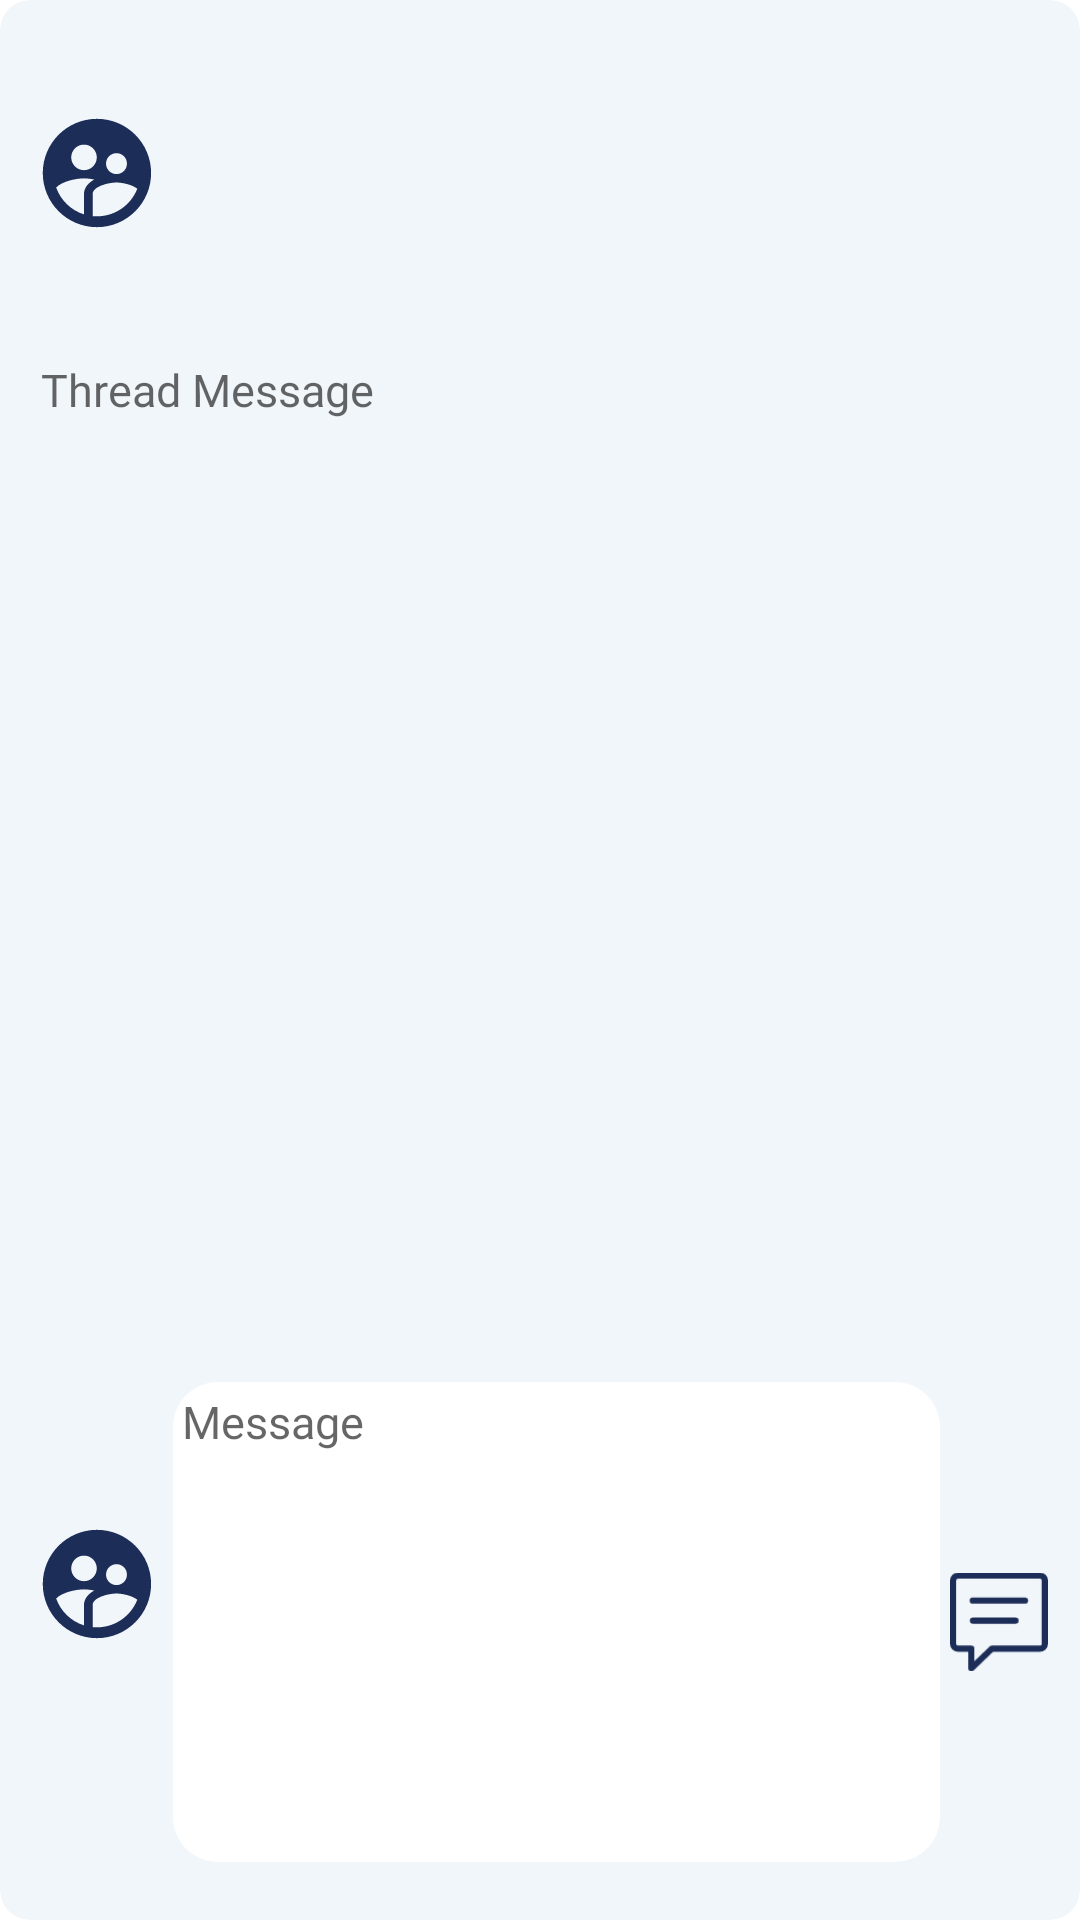

Where to tap for icons on this 1080*1920 app screen, as (x,y):
comment: (999,1622)
user: (96,173), (96,1584)
